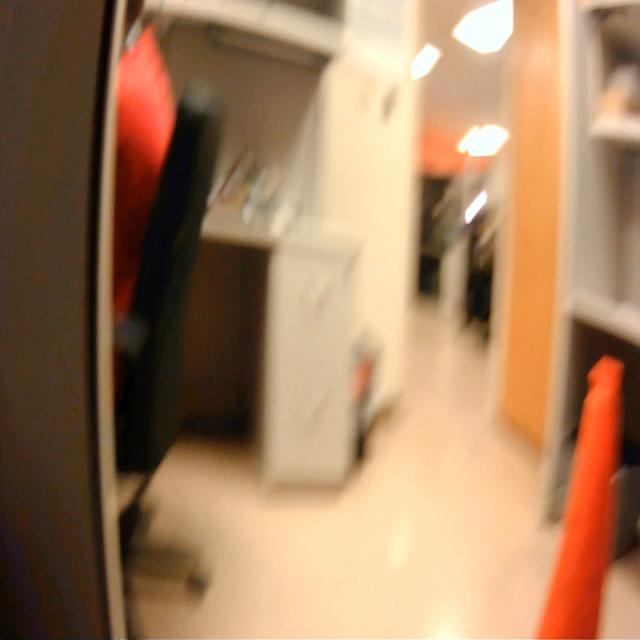traffic cone: (529, 340, 631, 640)
